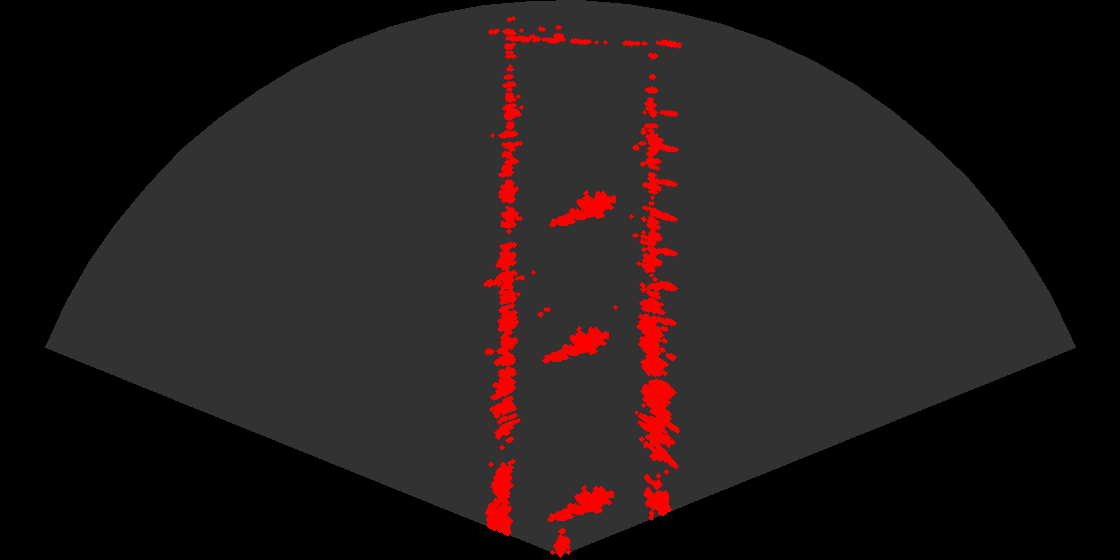frogman: (548, 184, 616, 231), (546, 479, 614, 526), (541, 320, 609, 367)
